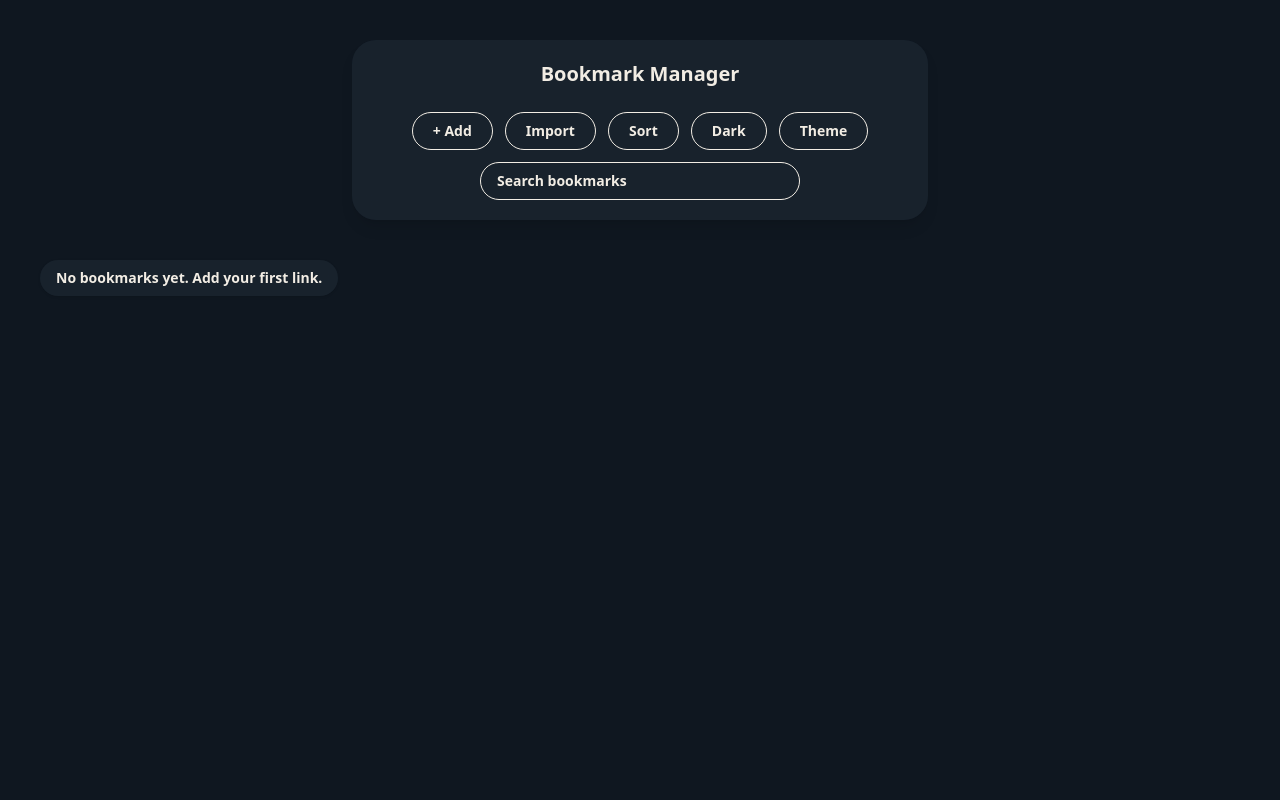
Test case: BookmarksPage › adds a bookmark through the modal and normalizes a bare url
Click the button "+ Add" at (452, 131), box [412, 112, 493, 150]
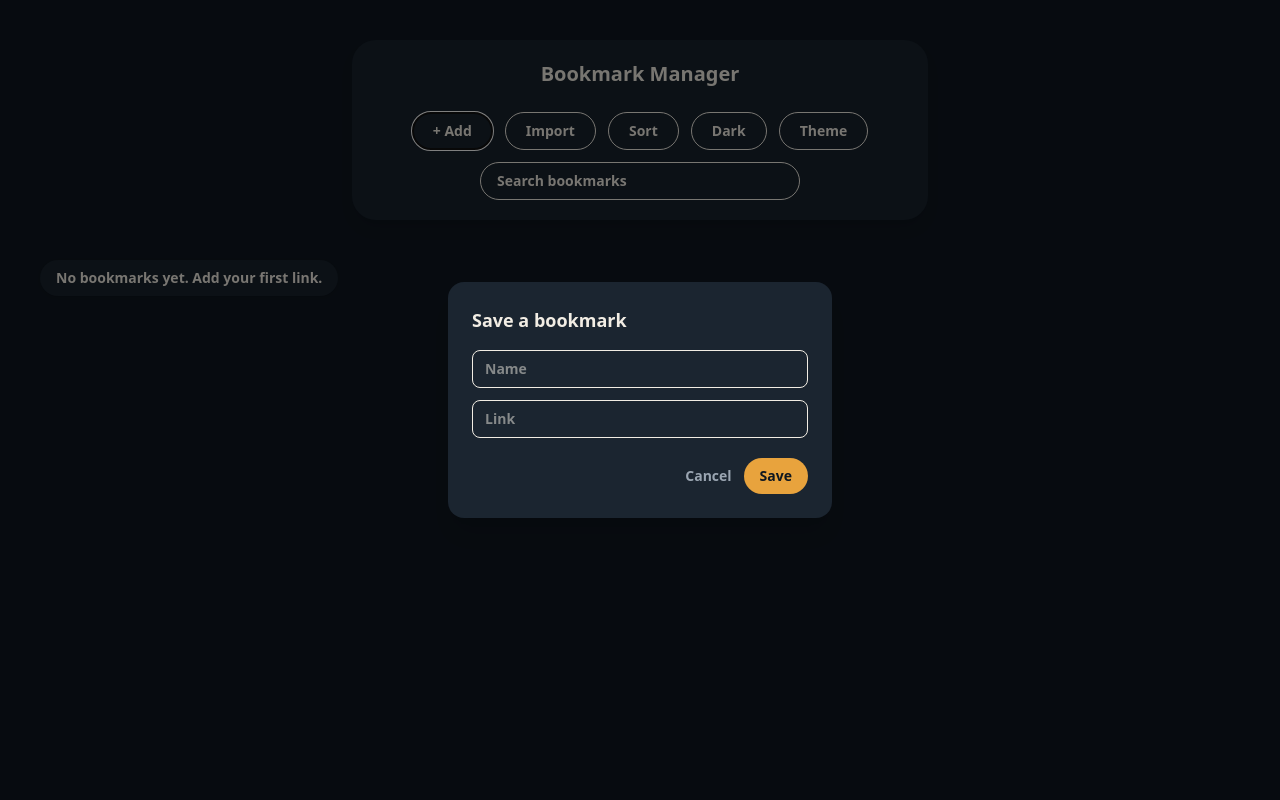
Type "Example" into the field with placeholder "Name" at (640, 369), box [472, 350, 808, 388]
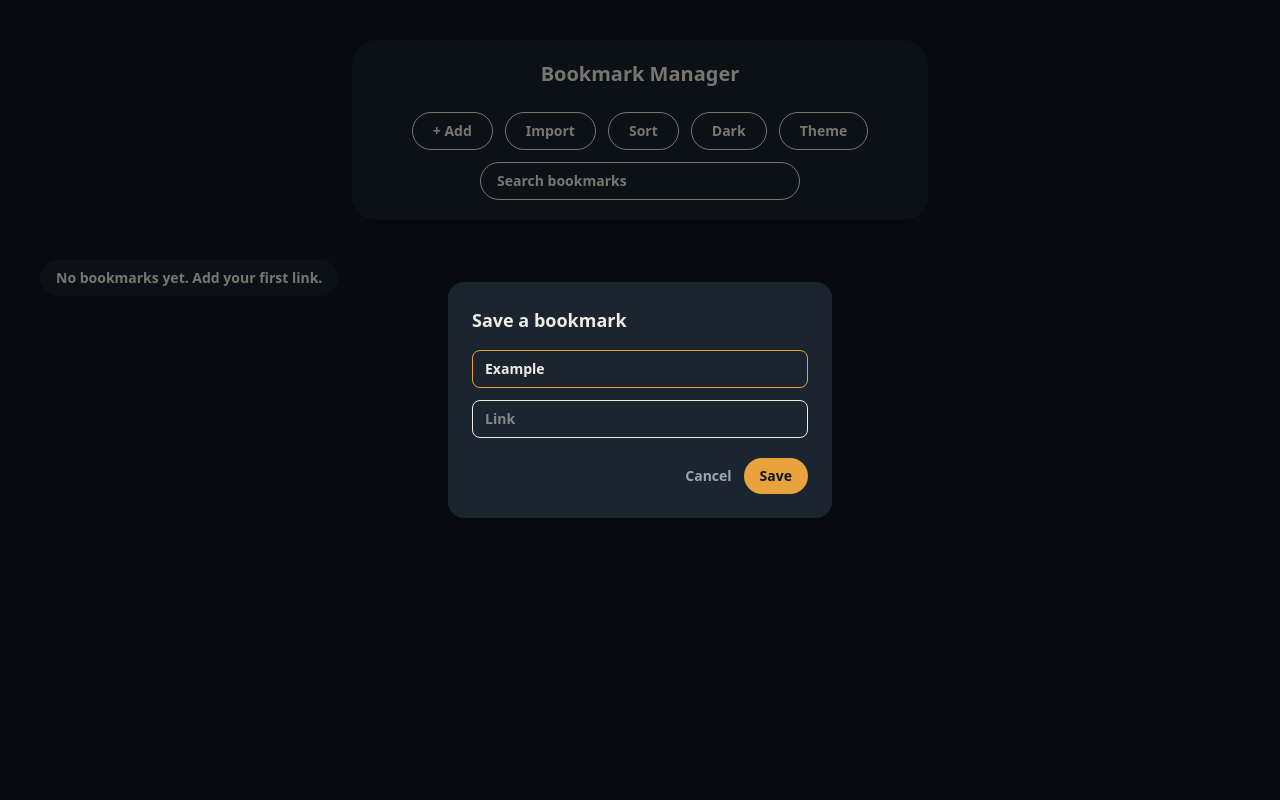
Type "example.com" into the field with placeholder "Link" at (640, 419), box [472, 400, 808, 438]
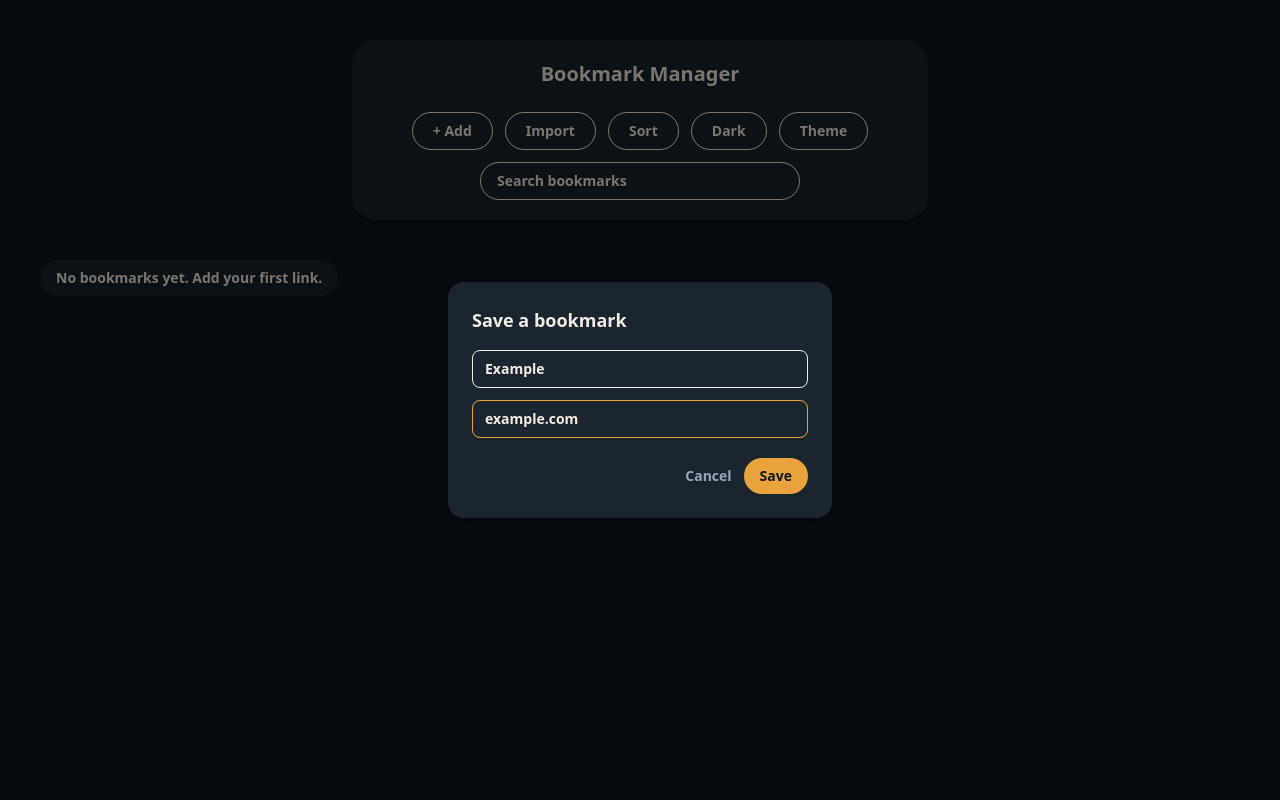
Click the button "Save" at (776, 476), box [744, 458, 808, 494]
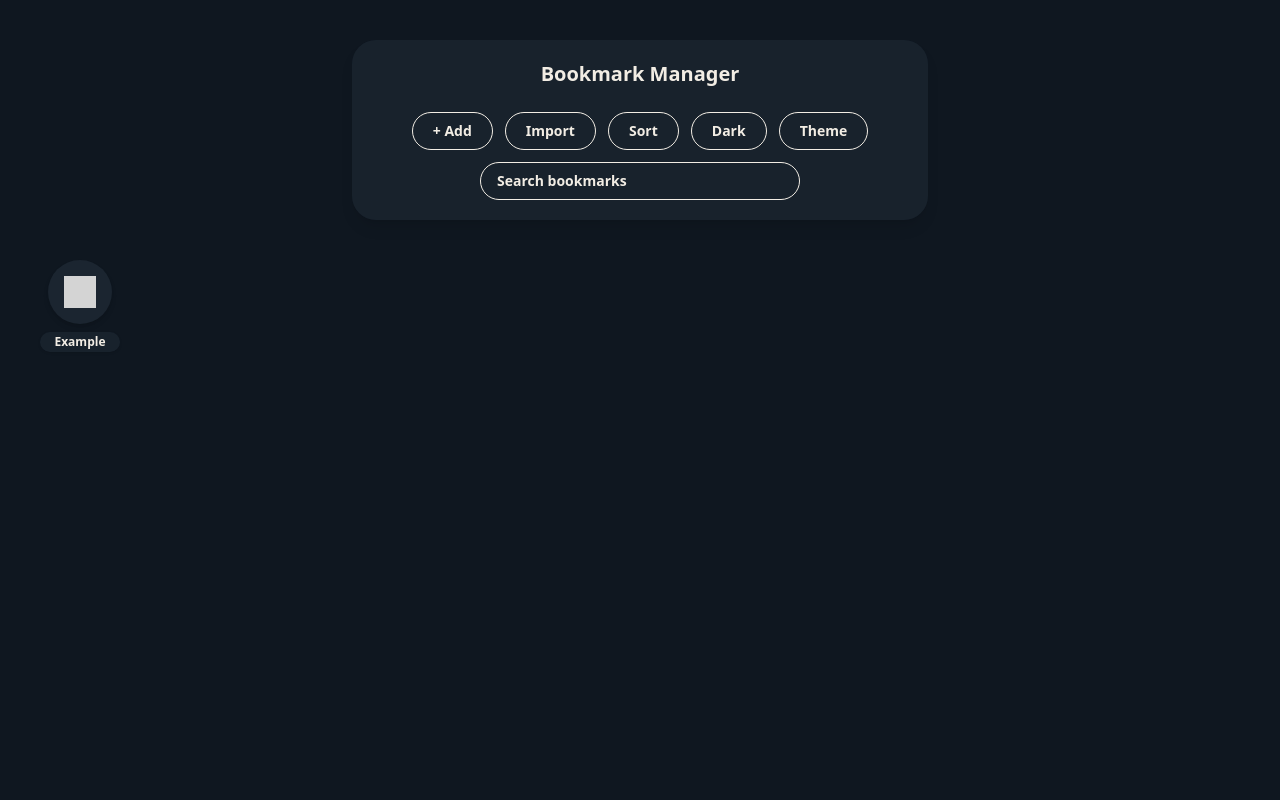
Expected: the button "Example" is shown, [40, 332, 120, 352]
